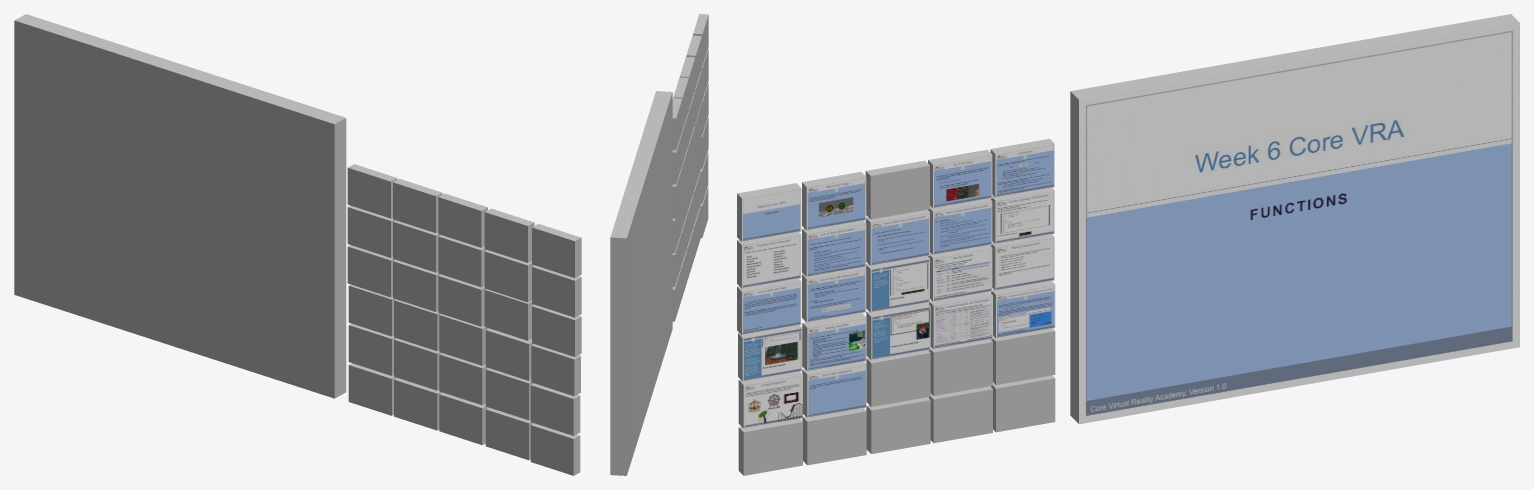
Rendered from VRA_Lecture6_V1_100-114-023__f6b8f4d4-8c23-4b0b-b9f0-99ee3f8d10d7.dae.
3 renders of one model, left to right at view 1: azimuth 30°, elevation 25°; view 2: azimuth 150°, elevation 25°; view 3: azimuth 270°, elevation 25°, orthographic. The views are drawn at different scales.
Visible parts, largest first — view 1: VRA_Lecture6_V1, Slideshow (×30); view 2: VRA_Lecture6_V1, Slideshow (×30); view 3: VRA_Lecture6_V1, Slideshow (×30).
Part boxes in pixels (bbox=[...]): VRA_Lecture6_V1: bbox=[14, 14, 346, 398]; Slideshow (×30): bbox=[347, 164, 581, 475]; VRA_Lecture6_V1: bbox=[610, 91, 672, 475]; Slideshow (×30): bbox=[672, 14, 708, 321]; VRA_Lecture6_V1: bbox=[1070, 14, 1519, 424]; Slideshow (×30): bbox=[737, 138, 1055, 475].
Bounding box in the file's own units: 3.15 × 7.46 × 3.41.
